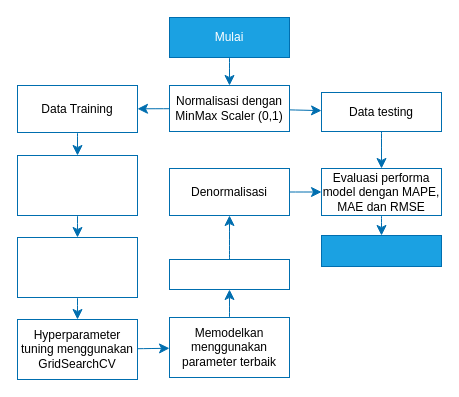
This 459x397 diagram has some shape labels left out. The shapes that lost their labels are listed below. From the top down, each one's centre as x and y in pixels, then its label:
(x=77, y=185): Transformasi data Strategi MIMO
(x=77, y=267): Membangun model LSTM
(x=381, y=250): Selesai
(x=229, y=274): Melakukan Prediksi
